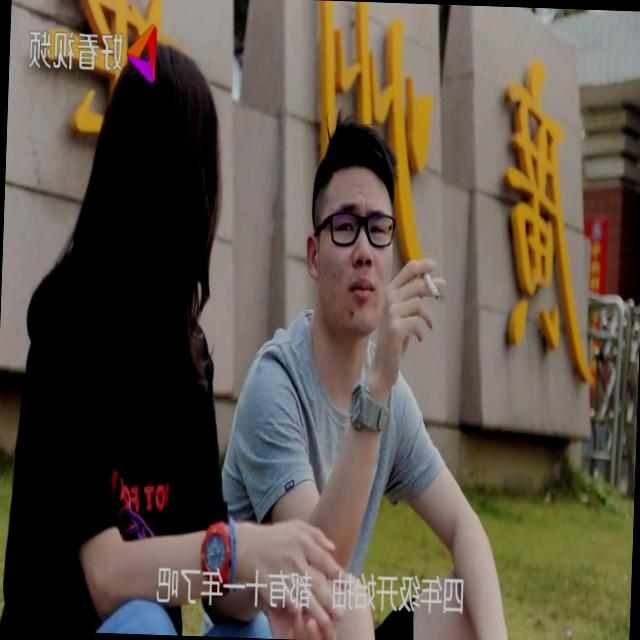cigarette: (416, 258, 444, 308)
